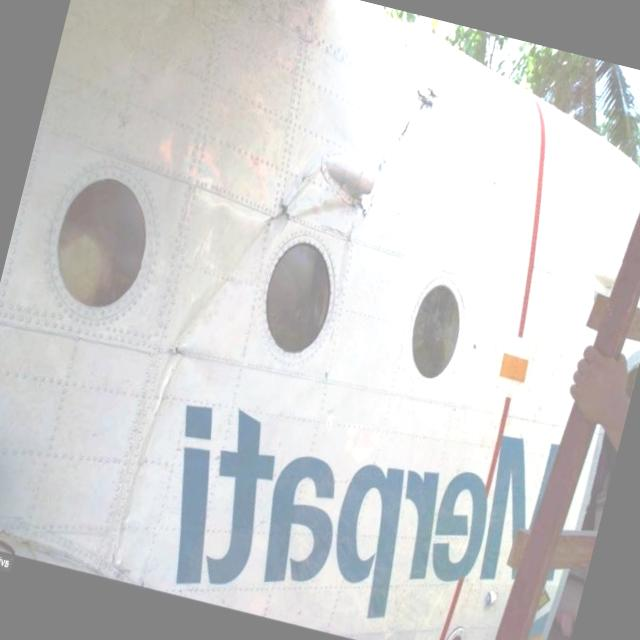crack: (398, 76, 440, 148), (258, 190, 297, 238), (160, 336, 189, 367)
dent: (440, 110, 484, 158)
